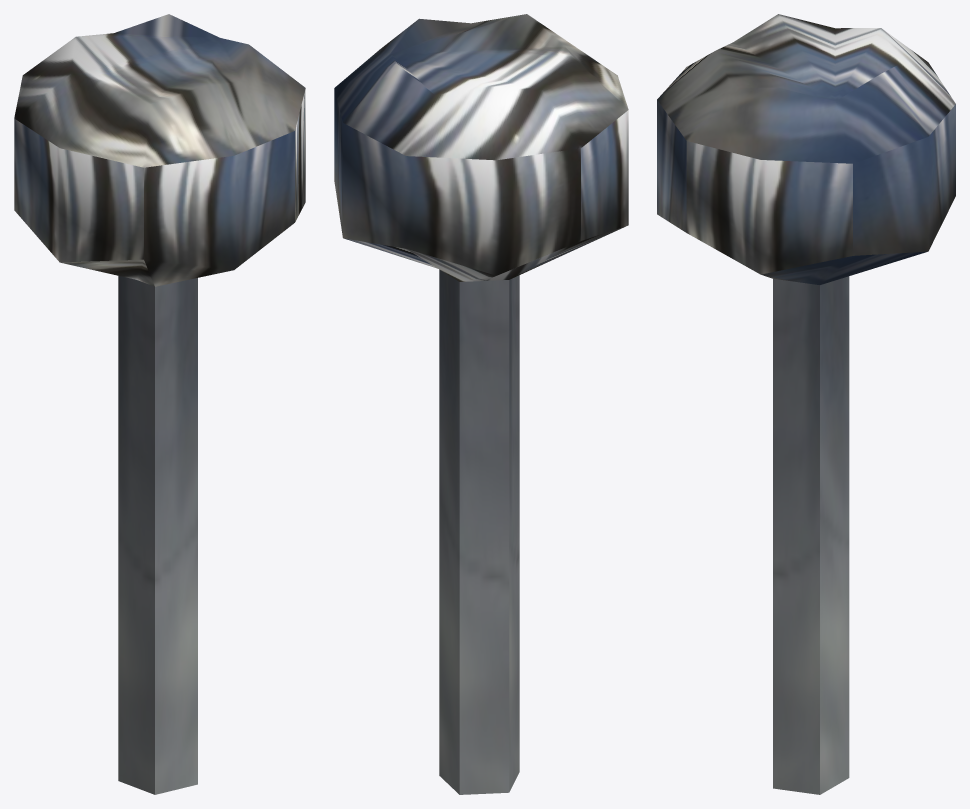
Rendered from yk_lvi_tuuletusaukko_epic 1.fbx.
3 views of the same model, side by side, from view 1: azimuth 30°, elevation 25°; view 2: azimuth 150°, elevation 25°; view 3: azimuth 270°, elevation 25° (orthographic).
Parts seen in each view (by area): view 1: Cylinder.002; view 2: Cylinder.002; view 3: Cylinder.002.
Part boxes in pixels (bbox=[...]): Cylinder.002: bbox=[14, 14, 305, 794]; Cylinder.002: bbox=[334, 14, 628, 794]; Cylinder.002: bbox=[657, 14, 955, 794].
Size of the model in its own units: 52.99 by 149 by 55.54.
